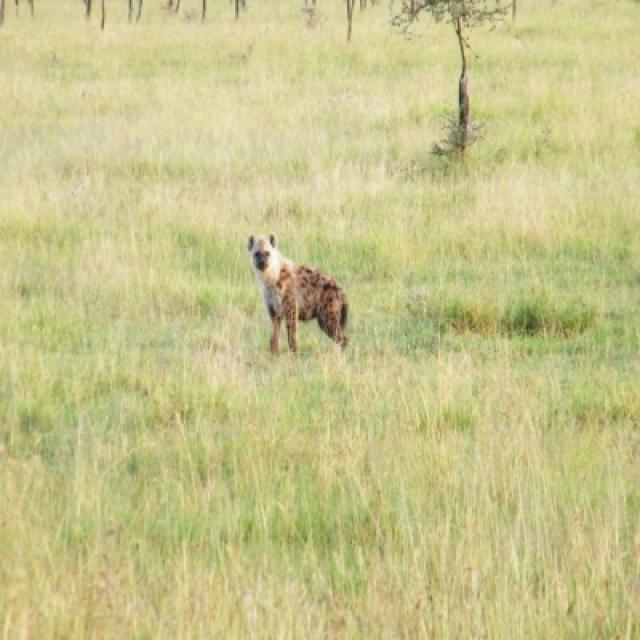hyena: (248, 237, 349, 355)
